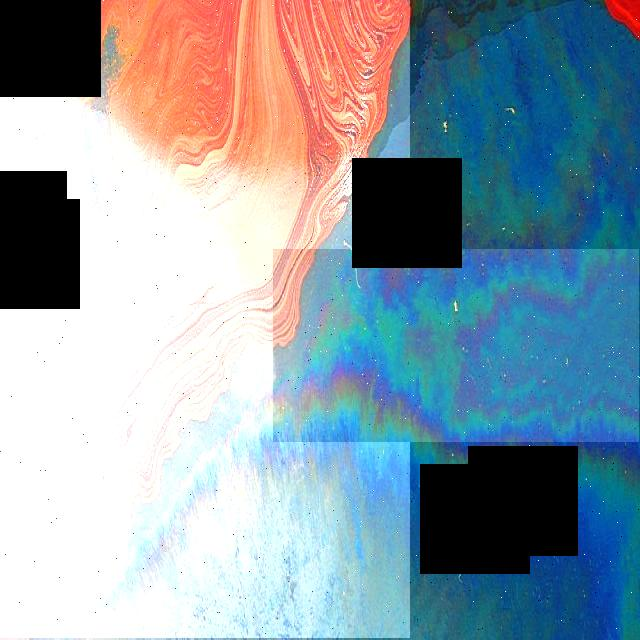oil spill: (0, 0, 410, 638), (274, 250, 639, 442)
